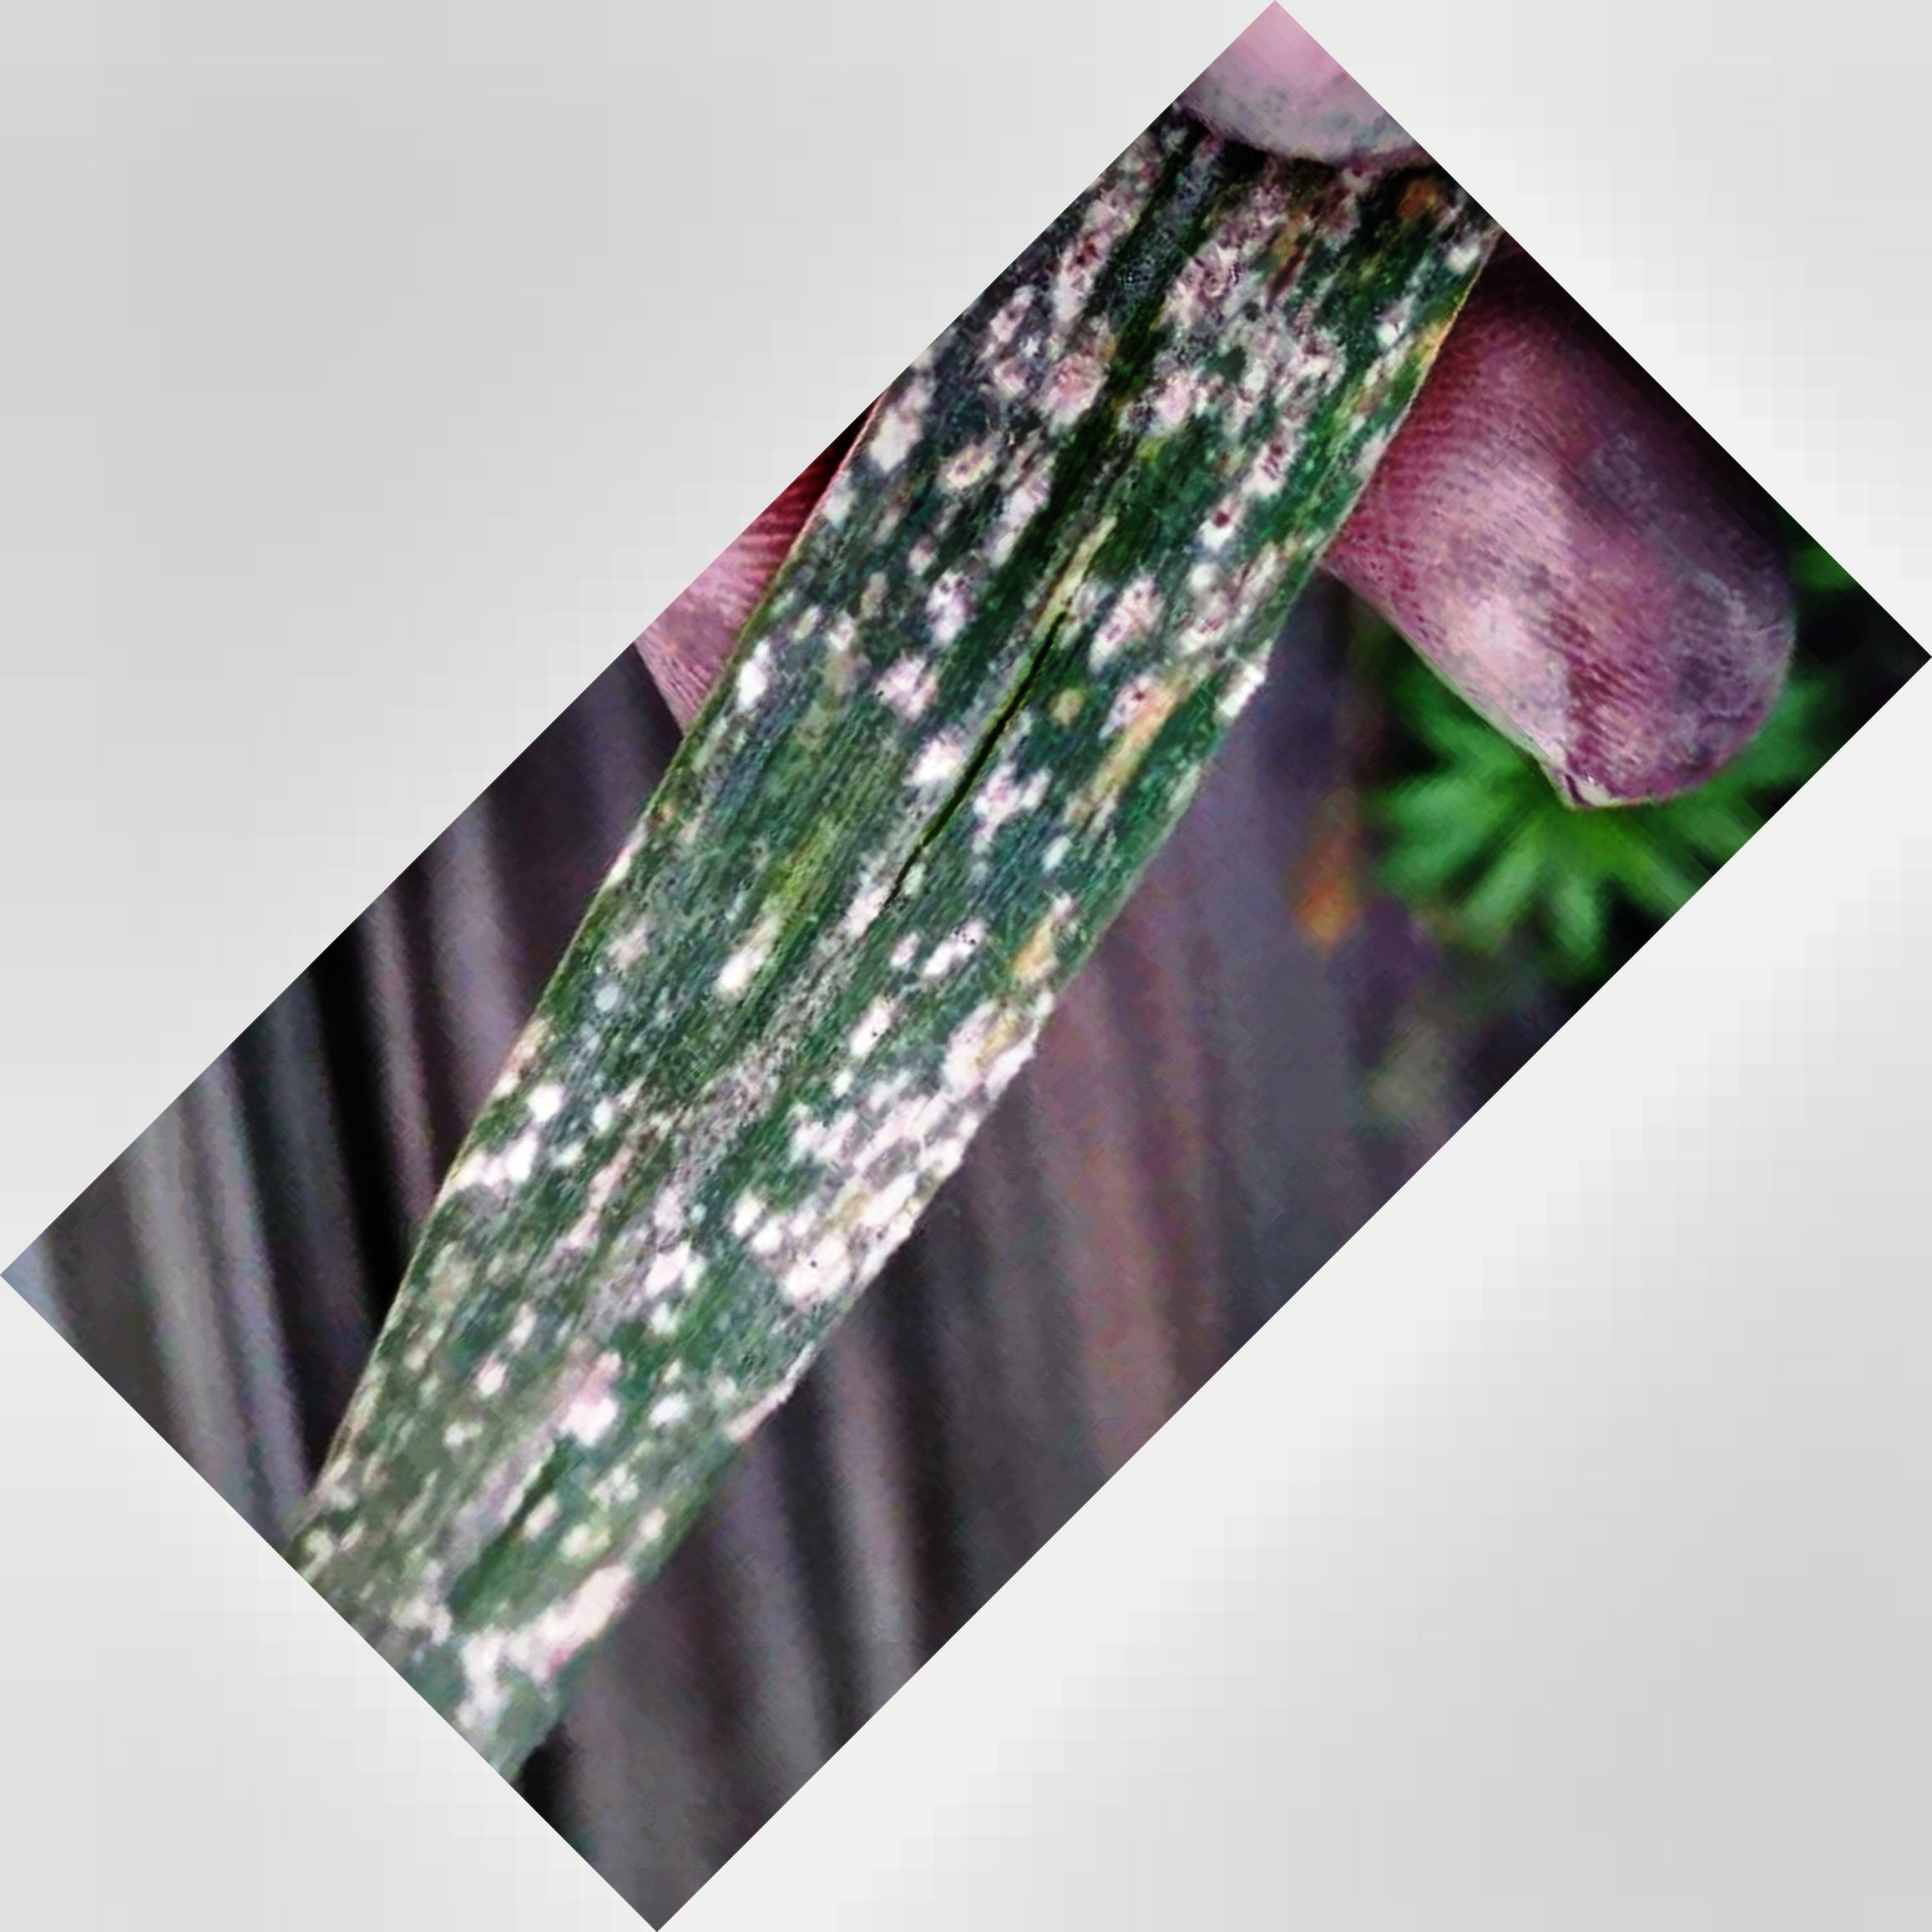Powdery Mildew: (437, 267, 1421, 1585)
